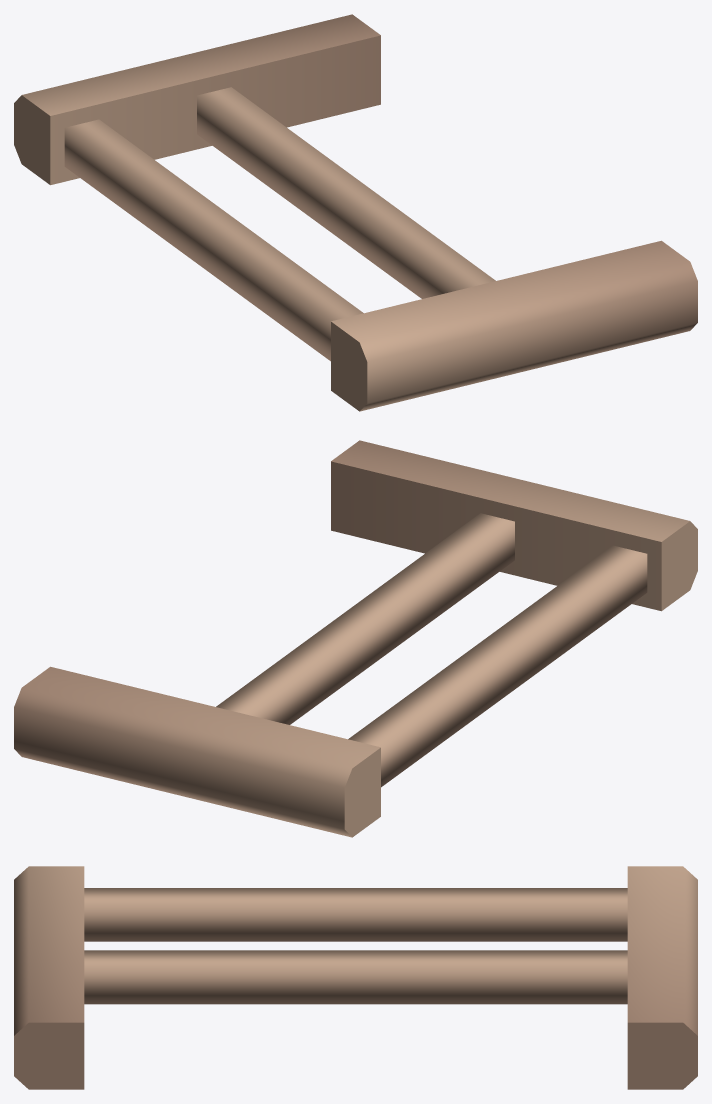
The model's file is towel-rack-large (%wall).glb.
The picture shows the model from 3 angles, top to bottom: view 1: azimuth 30°, elevation 25°; view 2: azimuth 150°, elevation 25°; view 3: azimuth 270°, elevation 25°; orthographic projection. The views are drawn at different scales.
Visible parts, largest first — view 1: towel-rack-large (%wall); view 2: towel-rack-large (%wall); view 3: towel-rack-large (%wall).
Boxes of the visible parts, x1,y1,x2,y2 form: towel-rack-large (%wall): (14, 14, 697, 411); towel-rack-large (%wall): (14, 440, 697, 837); towel-rack-large (%wall): (14, 866, 697, 1089).
Bounding box in the file's own units: 0.25 × 0.05 × 0.4625.
